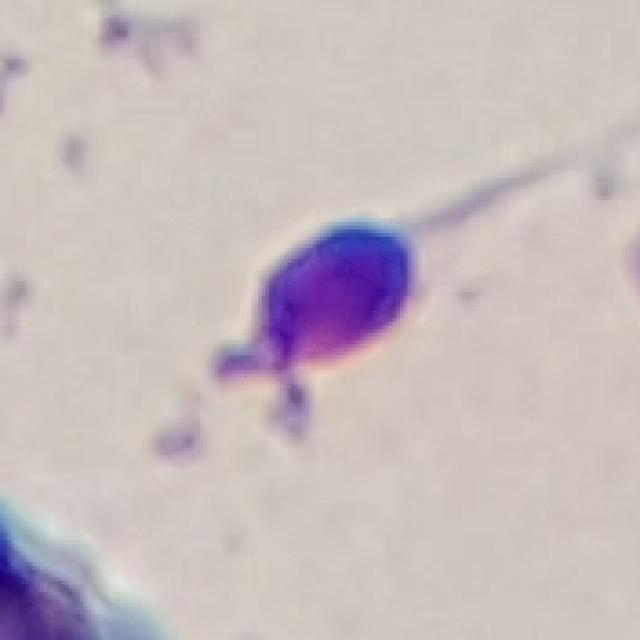normal sperm: (261, 128, 636, 370)
